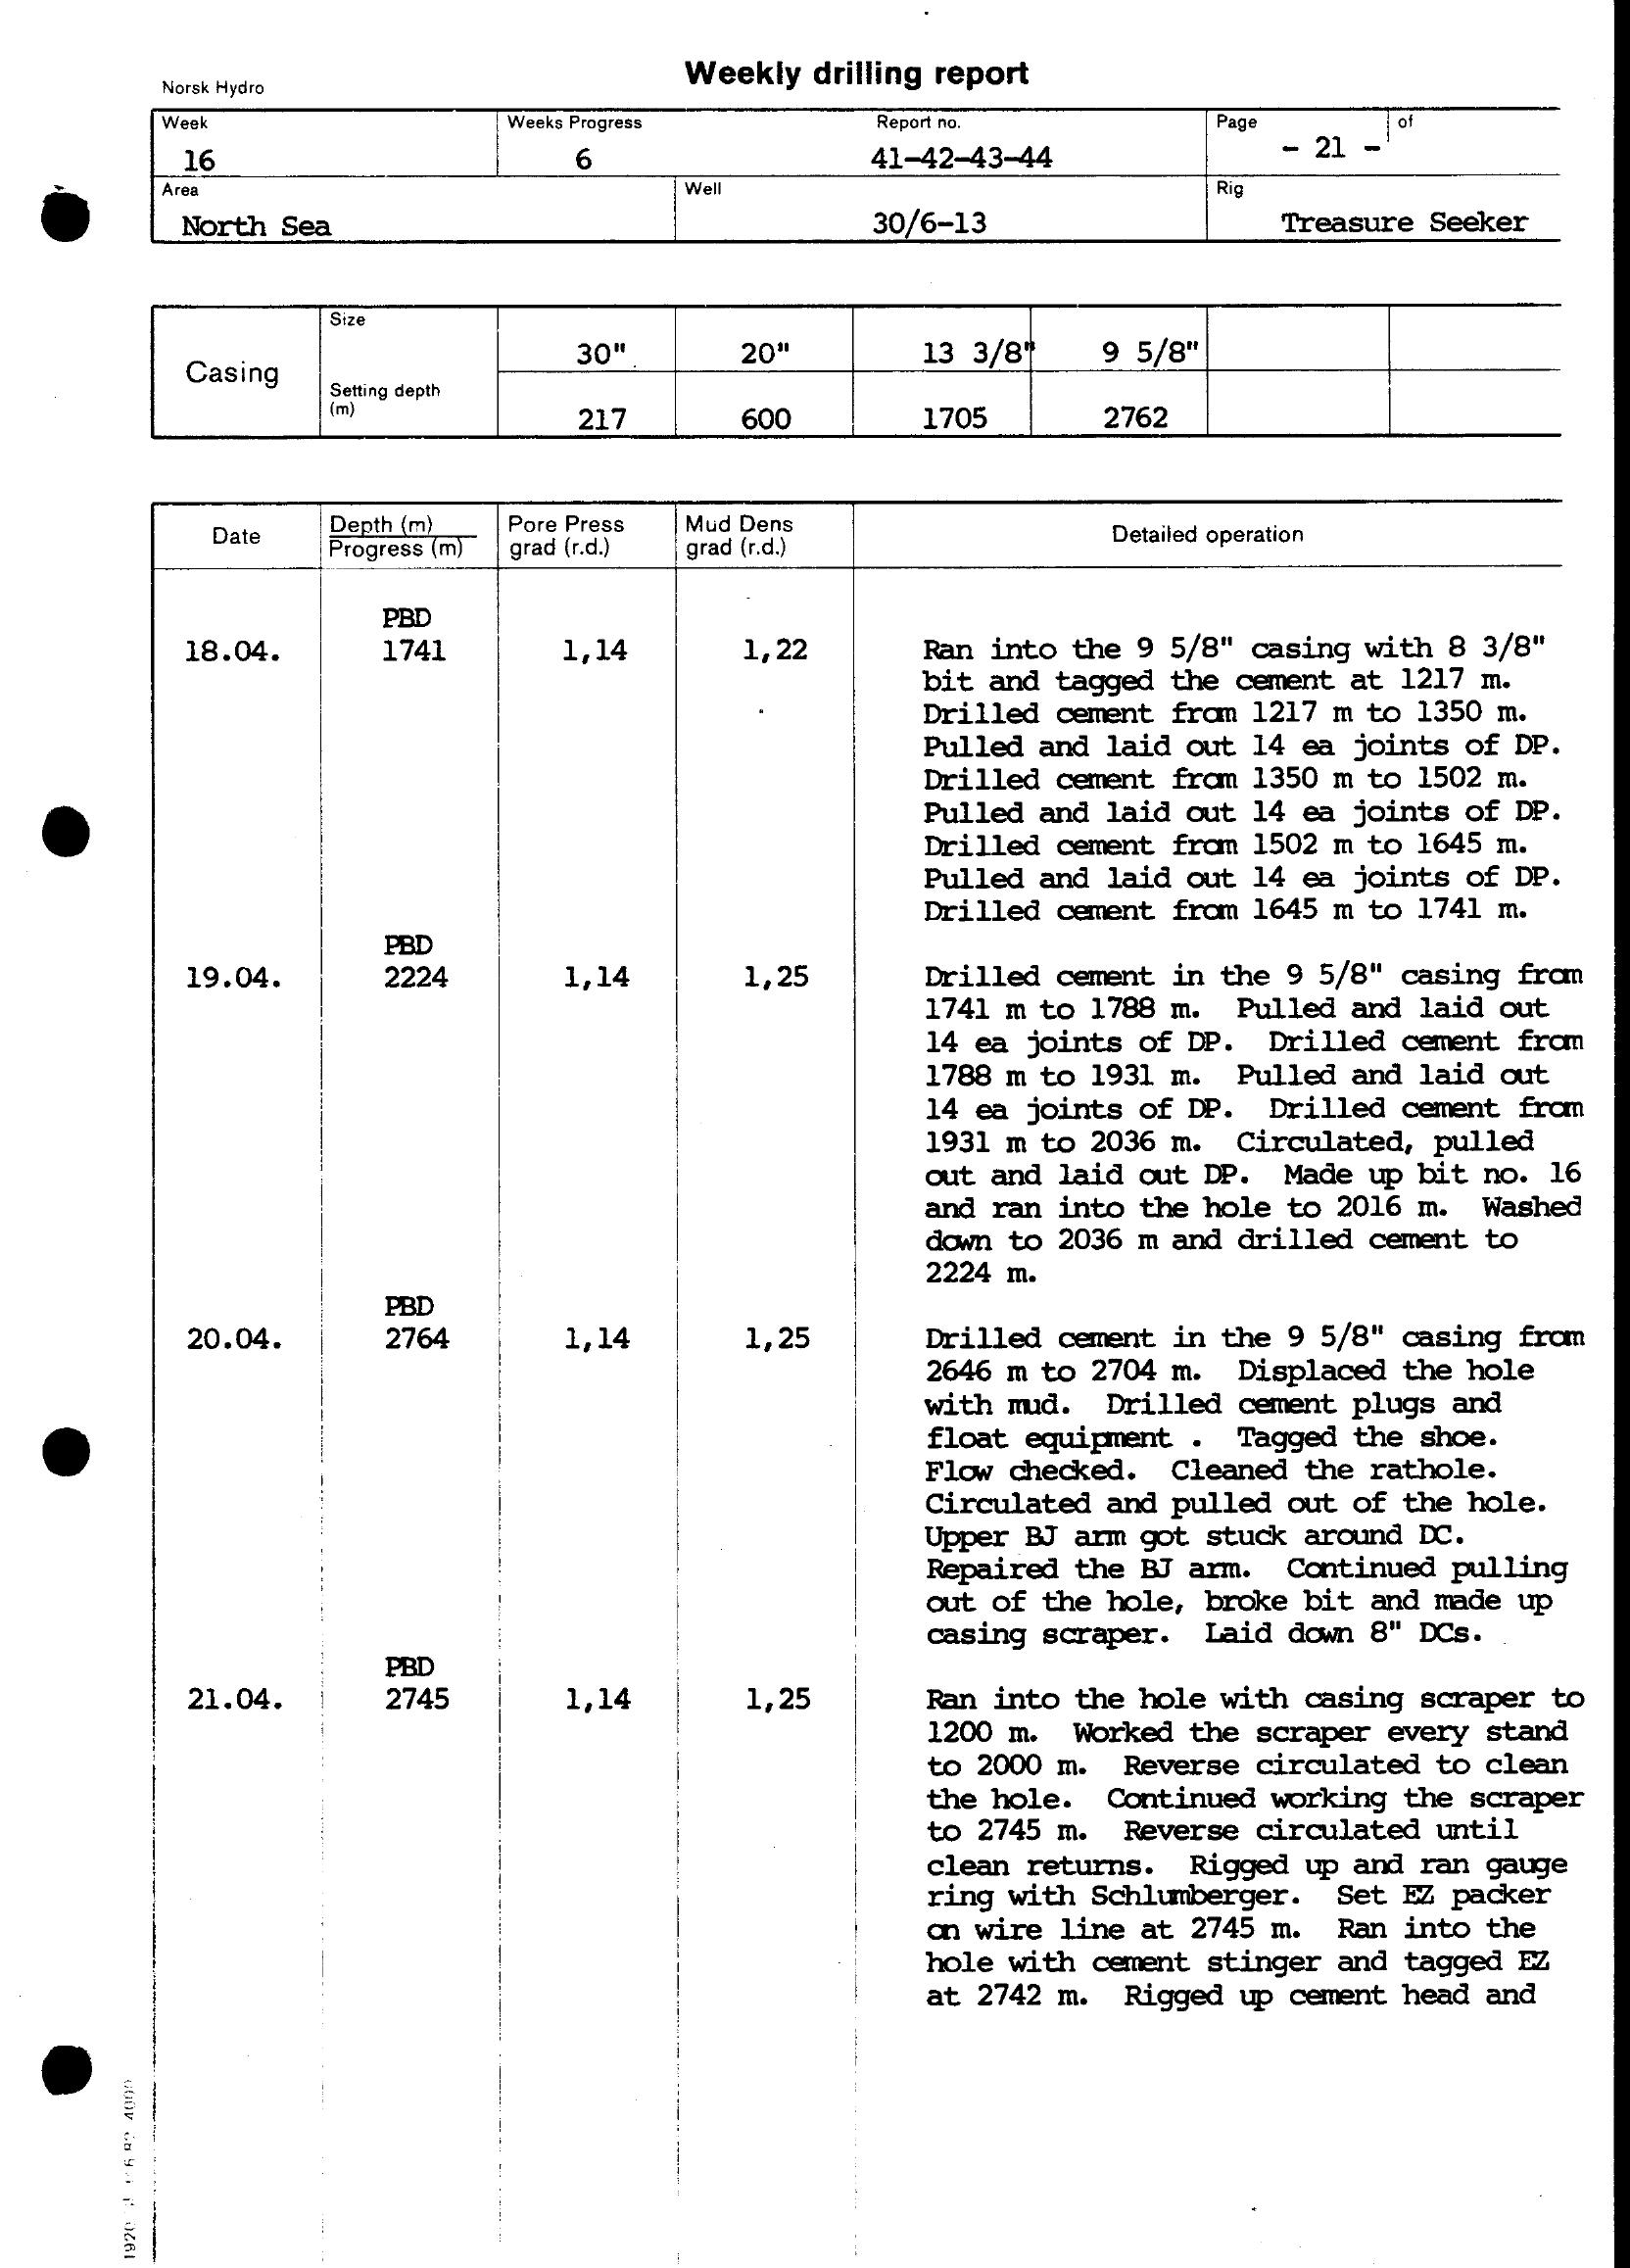graph: (128, 90, 1630, 2057)
text: (671, 40, 1051, 100)
